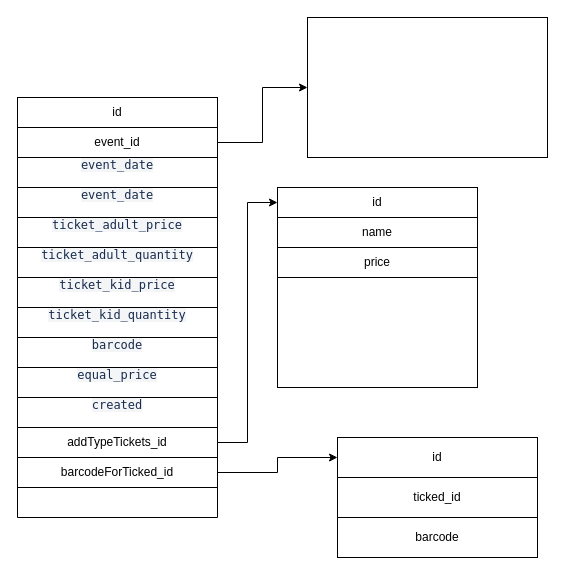
Some shapes in this 565 by 575 pixel diagram are drawn without their labels. Here are the shapes that lost their labels. From the top down, the box of each, then its label:
(306, 16, 548, 158): event
(276, 276, 478, 388): Other
